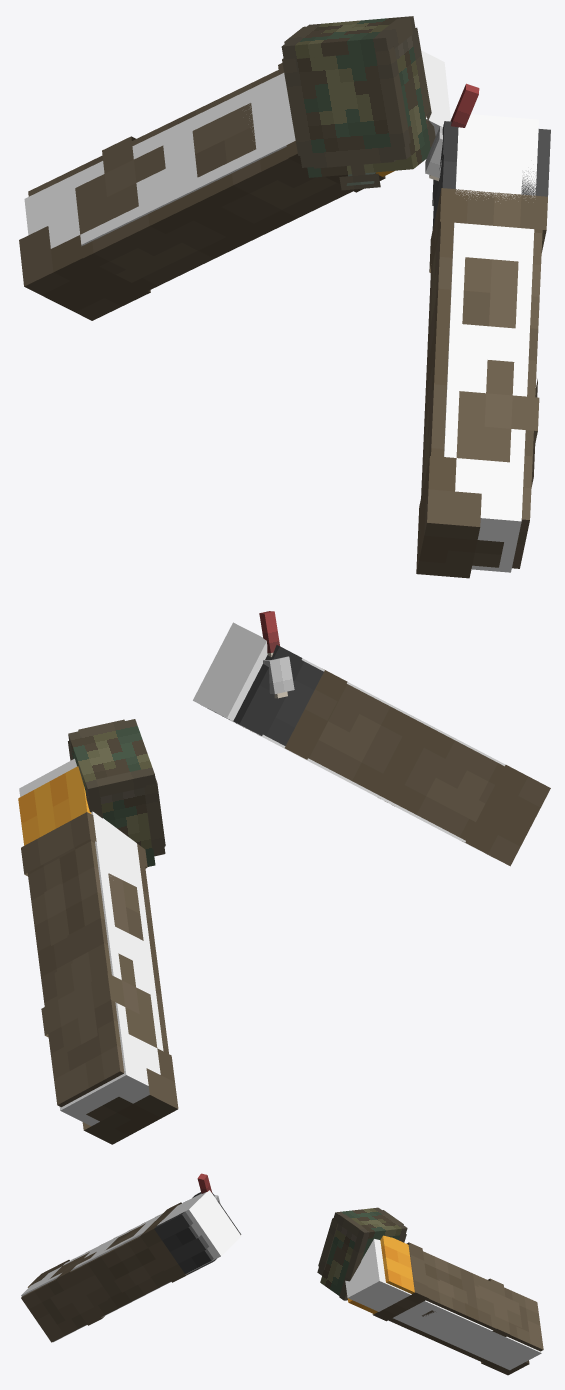
File: lev.ai31vs.glb
3 views of the same model, one above another, from view 1: azimuth 30°, elevation 25°; view 2: azimuth 150°, elevation 25°; view 3: azimuth 270°, elevation 25° (orthographic). The views are drawn at different scales.
Visible parts, largest first — view 1: rightArmLayerModel, rightArmLayerSlimModel, leftArmModel, leftArmLayerModel, leftArmLayerSlimModel, cube.006, rightArmModel, cube.019, cube.009, cube.003; view 2: rightArmModel, leftArmModel, leftArmLayerModel, leftArmLayerSlimModel, rightArmLayerModel, rightArmLayerSlimModel, cube.009, cube.019, cube.006, h2; view 3: rightArmModel, leftArmLayerSlimModel, leftArmModel, rightArmLayerModel, rightArmLayerSlimModel, leftArmLayerModel, cube.019, cube.009, cube.006.
Part boxes in pixels (left/top/right/bottom): rightArmLayerModel: left=416, top=121, right=550, bottom=578; rightArmLayerSlimModel: left=444, top=114, right=538, bottom=572; leftArmModel: left=28, top=70, right=394, bottom=290; leftArmLayerModel: left=19, top=63, right=385, bottom=320; leftArmLayerSlimModel: left=24, top=50, right=450, bottom=248; cube.006: left=282, top=46, right=410, bottom=190; rightArmModel: left=421, top=154, right=542, bottom=568; cube.019: left=307, top=27, right=435, bottom=177; cube.009: left=281, top=16, right=415, bottom=59; cube.003: left=450, top=83, right=479, bottom=127; rightArmModel: left=263, top=660, right=504, bottom=840; leftArmModel: left=18, top=766, right=168, bottom=1107; leftArmLayerModel: left=21, top=812, right=178, bottom=1144; leftArmLayerSlimModel: left=19, top=758, right=163, bottom=1126; rightArmLayerModel: left=201, top=645, right=550, bottom=866; rightArmLayerSlimModel: left=193, top=622, right=505, bottom=852; cube.009: left=68, top=719, right=156, bottom=797; cube.019: left=68, top=741, right=155, bottom=866; cube.006: left=144, top=778, right=165, bottom=856; h2: left=263, top=652, right=294, bottom=698; rightArmModel: left=21, top=1201, right=213, bottom=1342; leftArmLayerSlimModel: left=345, top=1239, right=541, bottom=1370; leftArmModel: left=347, top=1235, right=543, bottom=1362; rightArmLayerModel: left=27, top=1192, right=241, bottom=1325; rightArmLayerSlimModel: left=21, top=1190, right=241, bottom=1342; leftArmLayerModel: left=372, top=1242, right=529, bottom=1375; cube.019: left=320, top=1224, right=406, bottom=1300; cube.009: left=333, top=1207, right=407, bottom=1239; cube.006: left=317, top=1218, right=337, bottom=1275.
Bounding box in the file's own units: 10.53 × 12.69 × 27.41.
4 materials, 4 textured.
